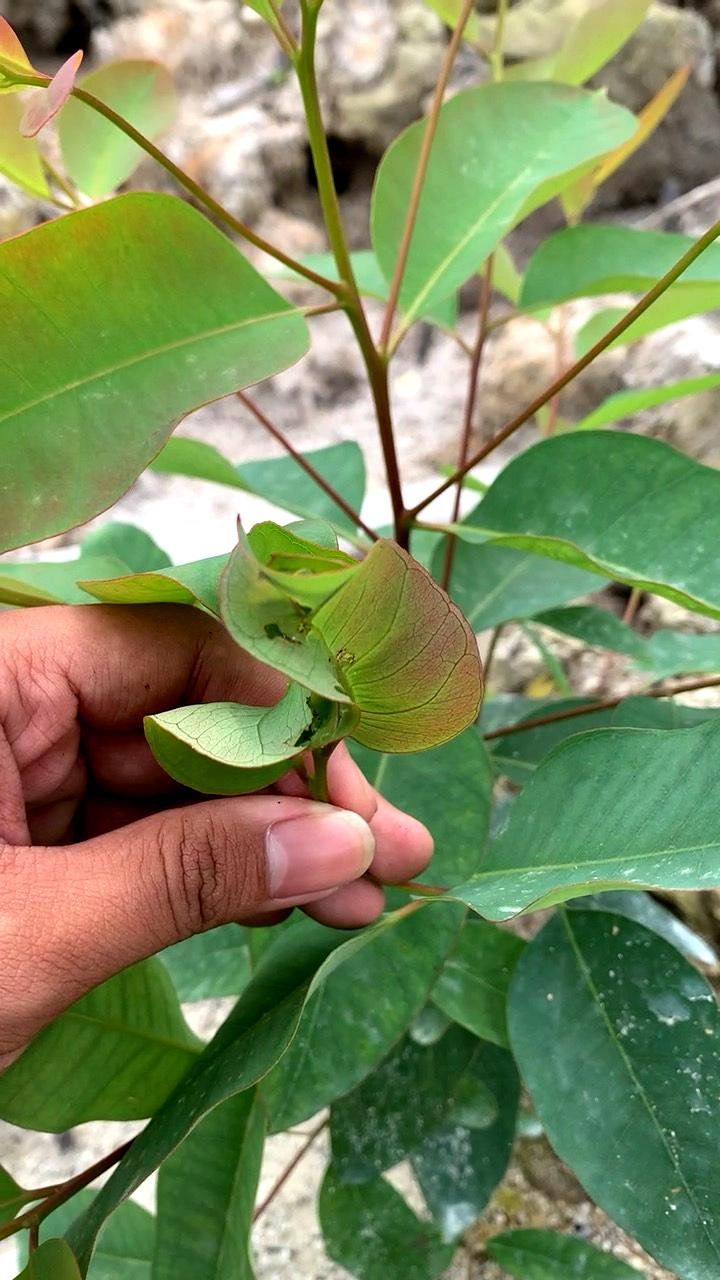Leaf Roller - Leaf: (149, 493, 503, 882)
